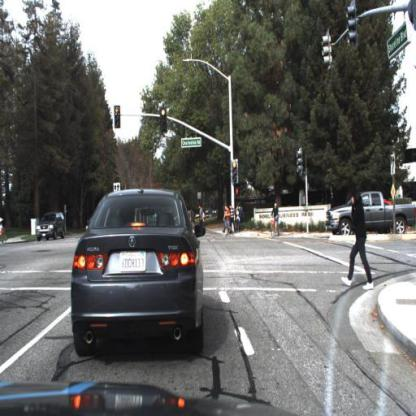biker: (271, 203, 281, 239), (1, 217, 8, 248)
car: (70, 187, 207, 358), (326, 182, 416, 234), (34, 209, 69, 243)
pedestrian: (339, 184, 376, 294), (229, 203, 238, 238), (222, 205, 231, 239), (230, 205, 238, 238), (224, 204, 231, 238), (199, 204, 207, 233), (236, 205, 242, 233)
trafficLight-Red: (231, 158, 240, 185), (159, 106, 167, 135)
trafficLight-RedLeft: (114, 103, 122, 129)
